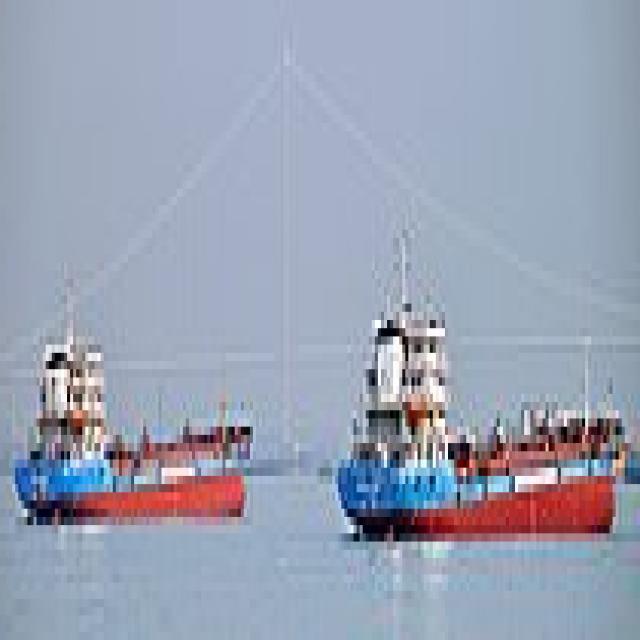Tanker: (338, 205, 625, 533), (3, 296, 262, 525)
